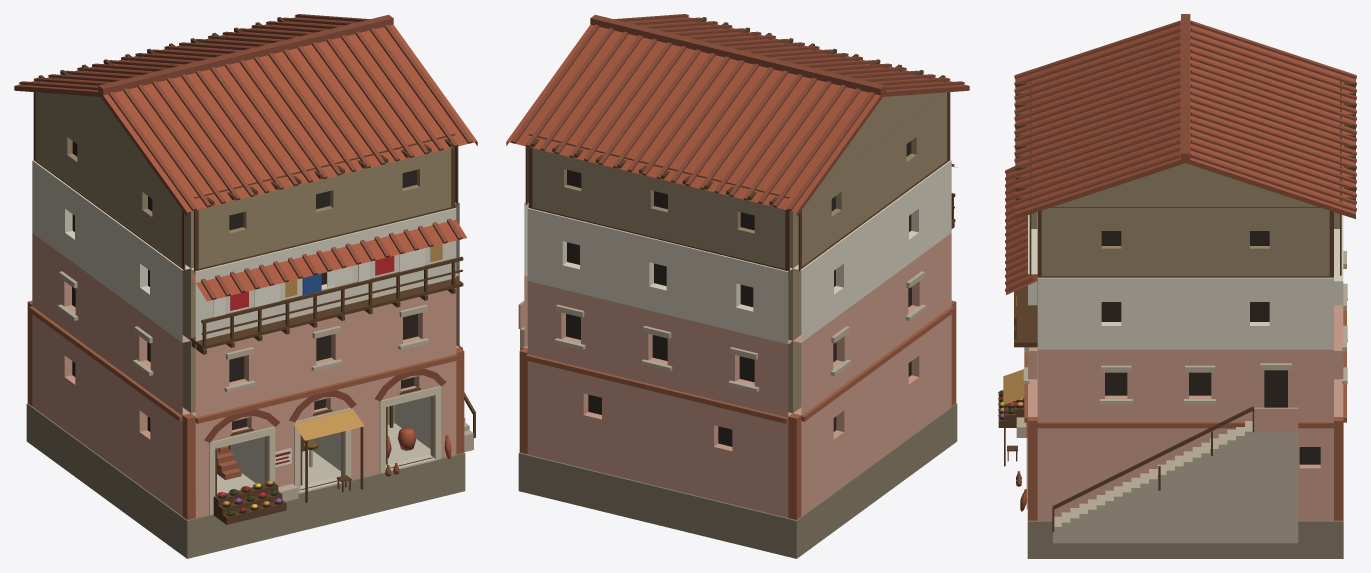
Rendered from rome_insula_m.glb.
3 renders of one model, left to right at view 1: azimuth 30°, elevation 25°; view 2: azimuth 150°, elevation 25°; view 3: azimuth 270°, elevation 25°, orthographic.
Parts seen in each view (by area): view 1: rome_insula_m; view 2: rome_insula_m; view 3: rome_insula_m.
Part boxes in pixels (x1,y1,x2,y2): rome_insula_m: [14, 14, 477, 558]; rome_insula_m: [506, 14, 969, 558]; rome_insula_m: [998, 14, 1356, 558].
Bounding box in the file's own units: 13.35 × 17.18 × 13.69.
